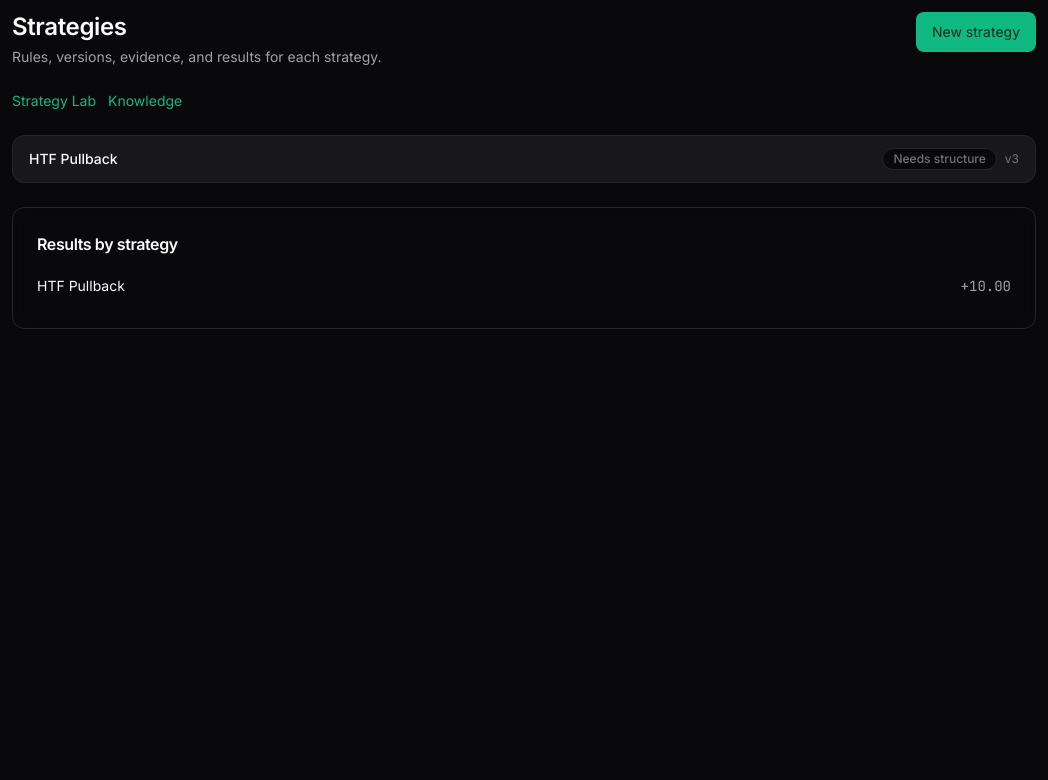
Test case: Trader strategies › shows rules, matched performance, evidence, and versions
This screenshot has width=1048, height=780.
Check: the heading "Strategies" is shown, box [12,12,127,41]
Click the button with test id "strategy-row".
click(73, 158)  # box [12,135,1036,183]
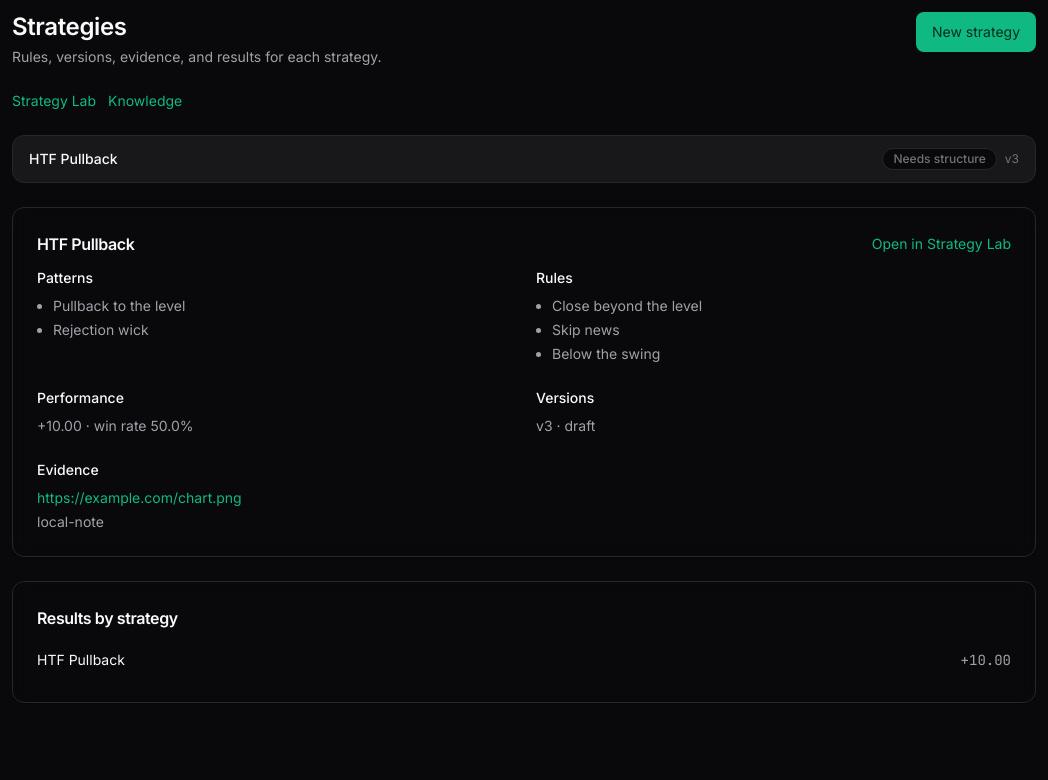
Check: the list item "Pullback to the level" is shown, box [53,297,185,314]
Check: the list item "Skip news" is shown, box [552,321,620,338]
Check: the text "+10.00 · win rate 50.0%" is shown, box [37,417,194,434]
